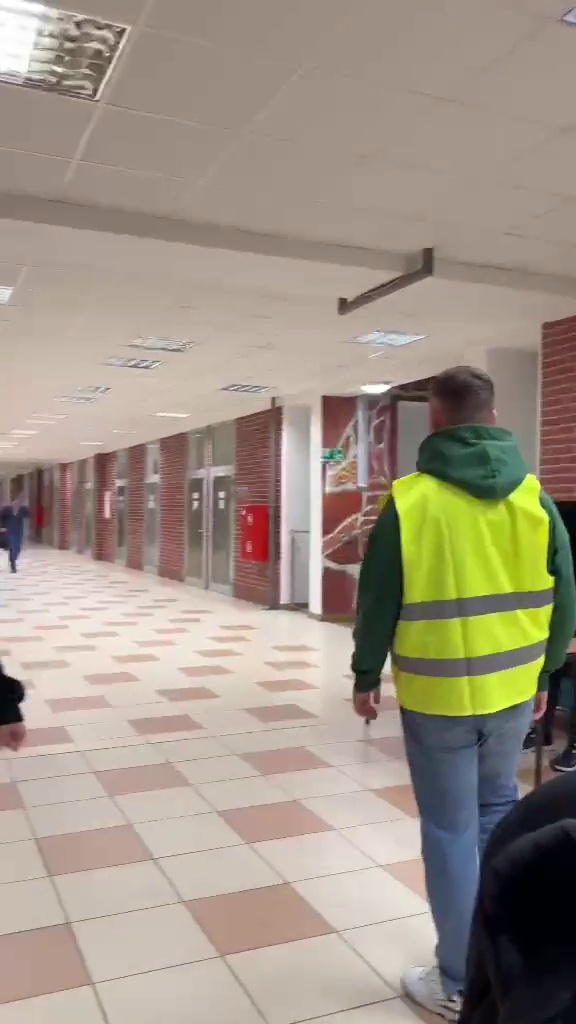vest: (356, 365, 576, 1014)
